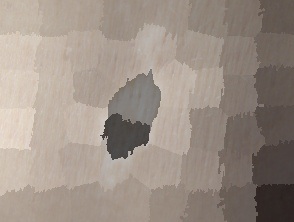vitiligo: (45, 6, 224, 217)
